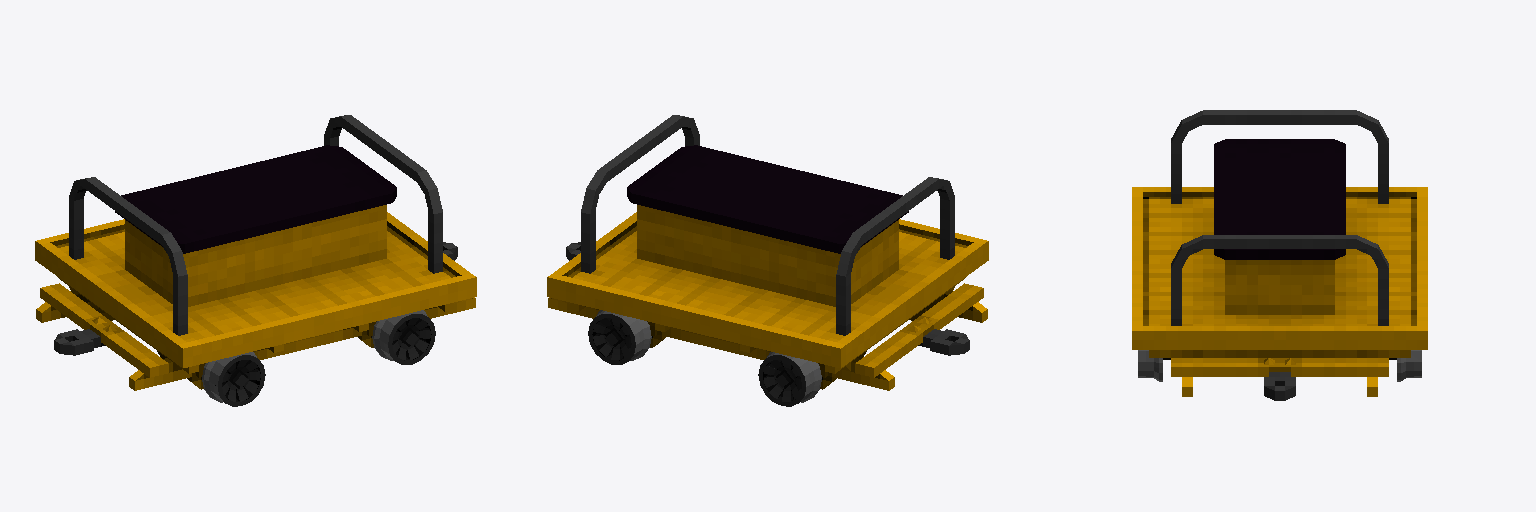
The picture shows the model from 3 angles: view 1: azimuth 30°, elevation 25°; view 2: azimuth 150°, elevation 25°; view 3: azimuth 270°, elevation 25°; orthographic projection.
Visible parts, largest first — view 1: Cube.363_Cube.1211, SHELL.004_Cube.058, Cube.364_Cube.1212, FRAME.007_Cube.055, FRAME_WHEEL_1.005_Circle.008, FRAME_WHEEL_2.006_Circle.009, Cube.038_Cube.054, SHELL.005_Cube.062; view 2: Cube.363_Cube.1211, SHELL.004_Cube.058, Cube.364_Cube.1212, FRAME.007_Cube.055, FRAME_WHEEL_1.005_Circle.008, FRAME_WHEEL_2.006_Circle.009, Cube.038_Cube.054, SHELL.005_Cube.062; view 3: SHELL.004_Cube.058, Cube.363_Cube.1211, Cube.364_Cube.1212, FRAME.007_Cube.055, SHELL.005_Cube.062, FRAME_WHEEL_2.006_Circle.009, Cube.038_Cube.054.
Boxes of the visible parts, x1=… form: Cube.363_Cube.1211: x1=115, y1=145, x2=396, y2=306; SHELL.004_Cube.058: x1=35, y1=212, x2=476, y2=367; Cube.364_Cube.1212: x1=69, y1=115, x2=442, y2=335; FRAME.007_Cube.055: x1=36, y1=283, x2=475, y2=390; FRAME_WHEEL_1.005_Circle.008: x1=202, y1=352, x2=265, y2=406; FRAME_WHEEL_2.006_Circle.009: x1=372, y1=310, x2=435, y2=364; Cube.038_Cube.054: x1=54, y1=242, x2=457, y2=355; SHELL.005_Cube.062: x1=58, y1=277, x2=453, y2=373; Cube.363_Cube.1211: x1=627, y1=145, x2=908, y2=306; SHELL.004_Cube.058: x1=547, y1=212, x2=988, y2=367; Cube.364_Cube.1212: x1=581, y1=115, x2=954, y2=335; FRAME.007_Cube.055: x1=548, y1=283, x2=987, y2=390; FRAME_WHEEL_1.005_Circle.008: x1=758, y1=352, x2=821, y2=406; FRAME_WHEEL_2.006_Circle.009: x1=588, y1=310, x2=651, y2=364; Cube.038_Cube.054: x1=566, y1=242, x2=969, y2=355; SHELL.005_Cube.062: x1=570, y1=277, x2=965, y2=373; SHELL.004_Cube.058: x1=1132, y1=187, x2=1427, y2=349; Cube.363_Cube.1211: x1=1214, y1=139, x2=1345, y2=314; Cube.364_Cube.1212: x1=1171, y1=110, x2=1388, y2=325; FRAME.007_Cube.055: x1=1171, y1=358, x2=1388, y2=396; SHELL.005_Cube.062: x1=1149, y1=350, x2=1410, y2=357; FRAME_WHEEL_2.006_Circle.009: x1=1138, y1=350, x2=1421, y2=381; Cube.038_Cube.054: x1=1264, y1=372, x2=1295, y2=400.
Size of the model in its own units: 2.62 by 1.02 by 1.69.
Materials: 1 (1 with a texture image).